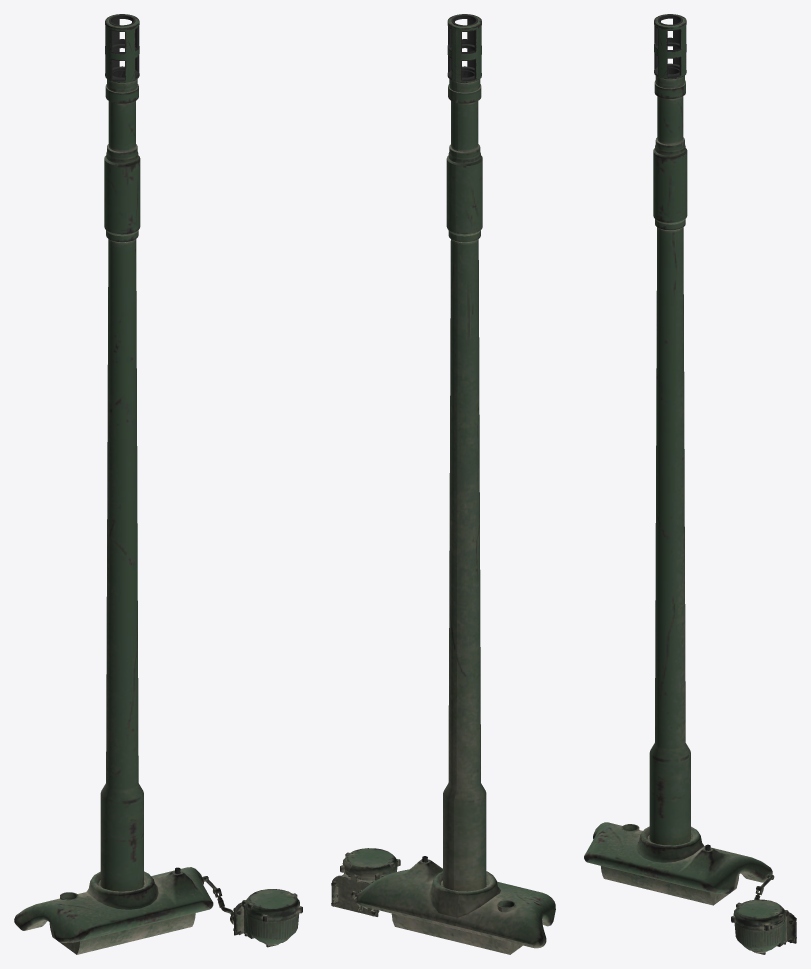
The model's file is Gun_01.glb.
The picture shows the model from 3 angles, left to right: view 1: azimuth 30°, elevation 25°; view 2: azimuth 150°, elevation 25°; view 3: azimuth 330°, elevation 25°; orthographic projection. The views are drawn at different scales.
Visible parts, largest first — view 1: set_0_group_0; view 2: set_0_group_0; view 3: set_0_group_0.
Part boxes in pixels (left/top/right/bottom): set_0_group_0: left=14, top=14, right=302, bottom=954; set_0_group_0: left=331, top=14, right=555, bottom=954; set_0_group_0: left=584, top=14, right=796, bottom=954.
Size of the model in its own units: 1.76 by 6.57 by 0.7635.
Materials: 1 (1 with a texture image).
